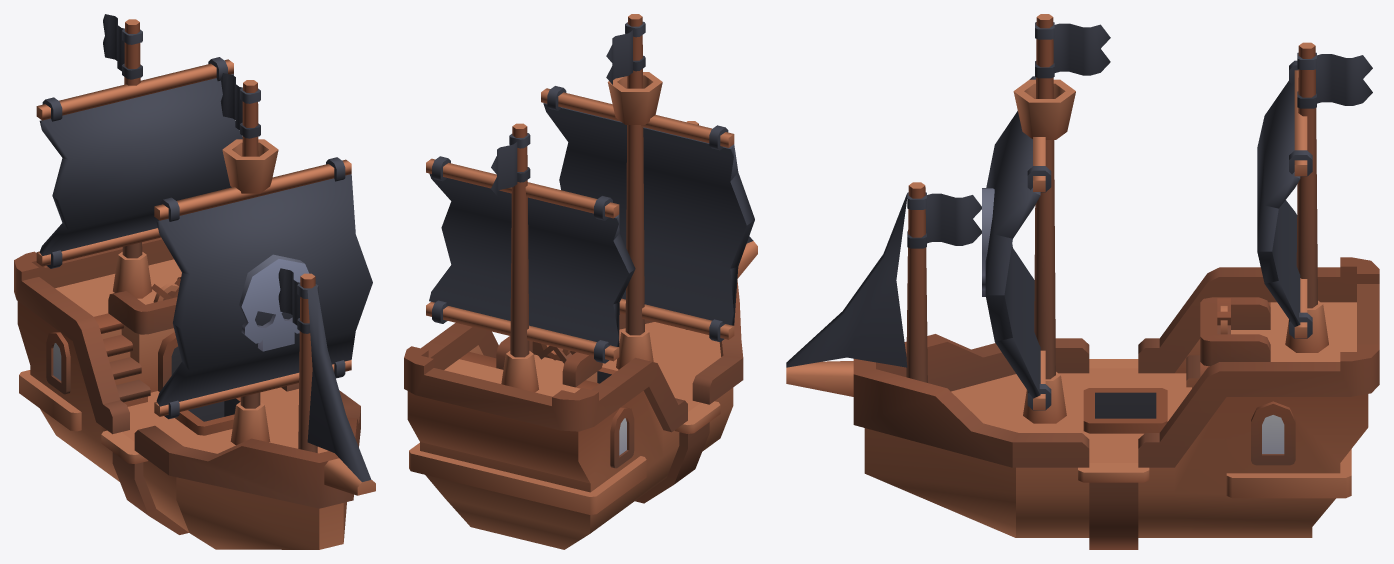
File: ship-pirate-medium.glb
3 views of the same model, side by side, from view 1: azimuth 30°, elevation 25°; view 2: azimuth 150°, elevation 25°; view 3: azimuth 270°, elevation 25° (orthographic). The views are drawn at different scales.
Parts seen in each view (by area): view 1: ship-pirate-medium; view 2: ship-pirate-medium; view 3: ship-pirate-medium.
Part boxes in pixels (<box>): ship-pirate-medium: <box>14,14,375,549</box>; ship-pirate-medium: <box>404,14,757,549</box>; ship-pirate-medium: <box>786,14,1379,549</box>.
Bounding box in the file's own units: 4.8 × 9.96 × 10.6.
